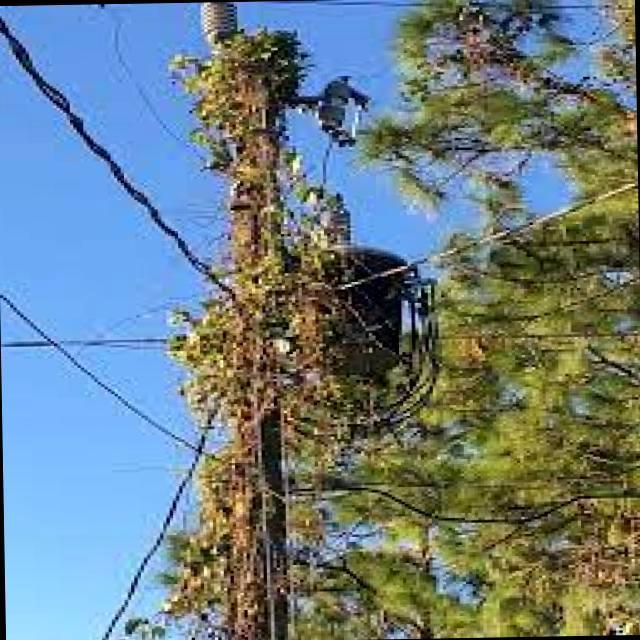critical vegetation: (171, 29, 328, 640)
